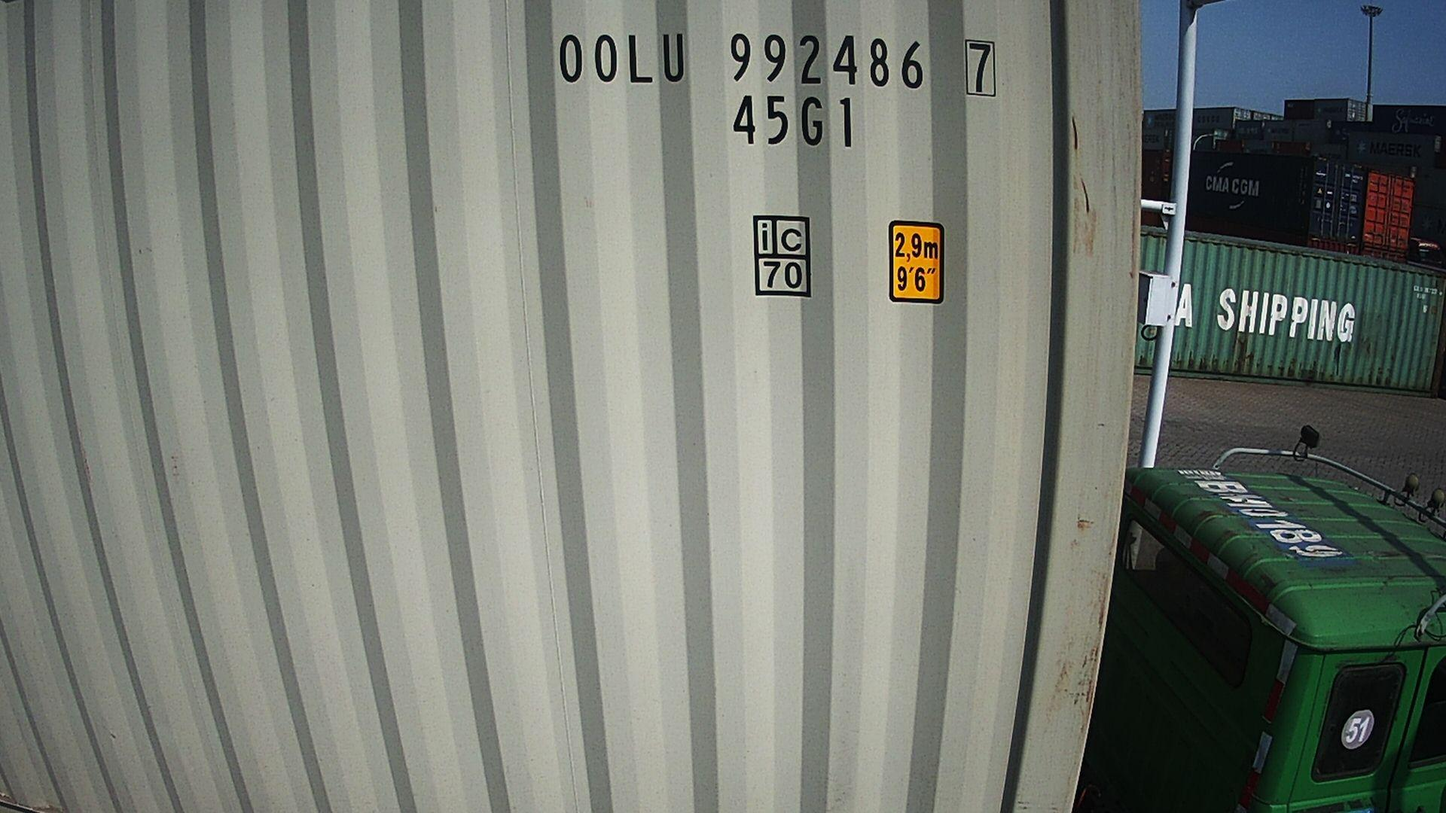container-numbers: (548, 26, 1000, 98), (726, 91, 862, 155)
